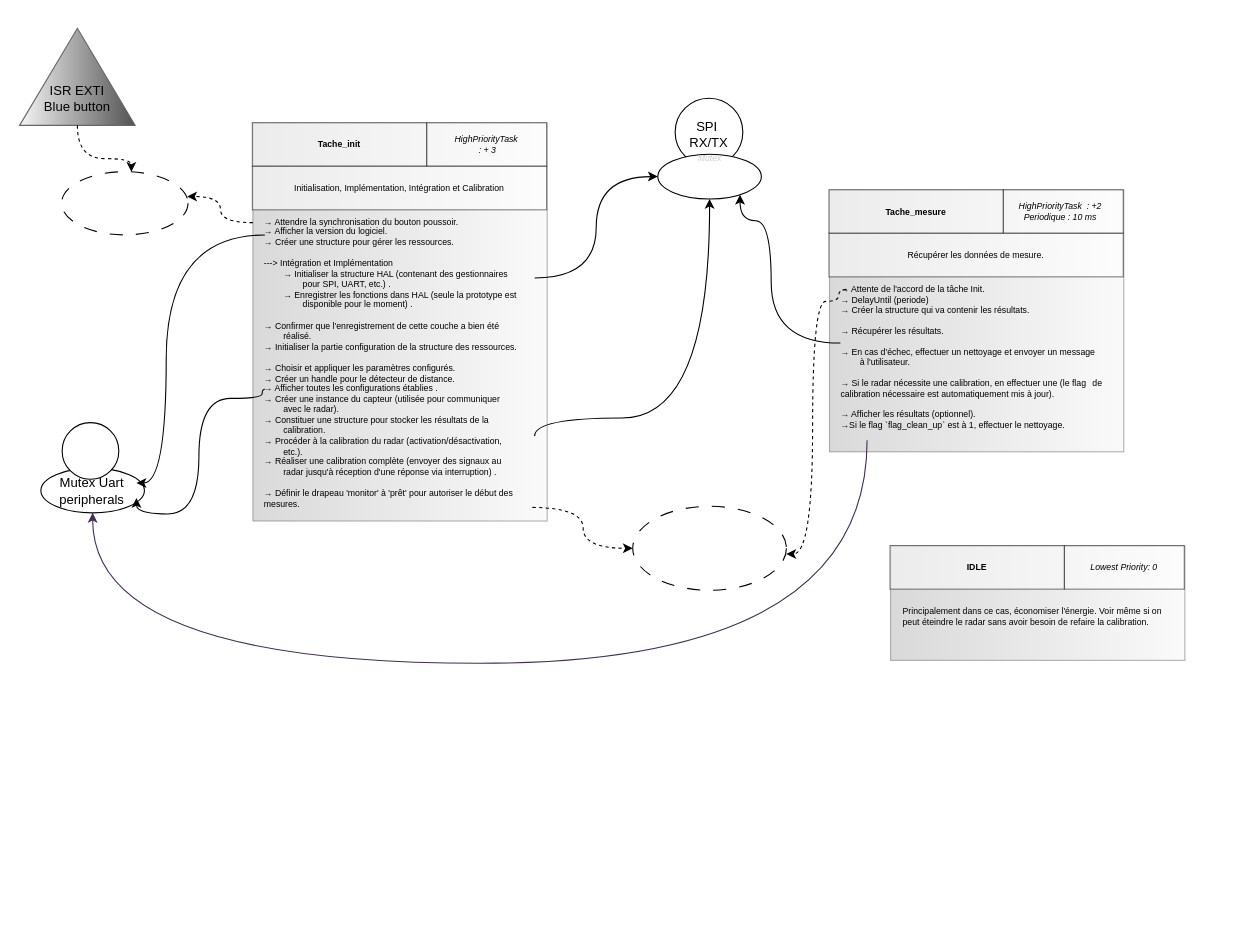
This 1251x945 diagram has some shape labels left out. Here are the shapes that lost their labels. From the top down, the centre of each, then its label:
the point at 709,176: Mutex SPI peripherals
the point at 124,203: Sémaphore Sync avec Tach_Init
the point at 90,450: UART TX
the point at 709,547: Sémaphore pour signaler à la tâche de mesure de commencer.
